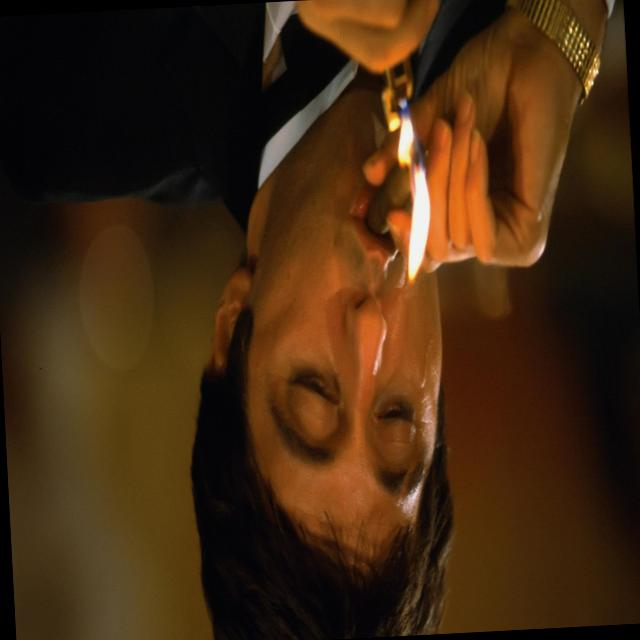cigarette: (345, 124, 440, 264)
